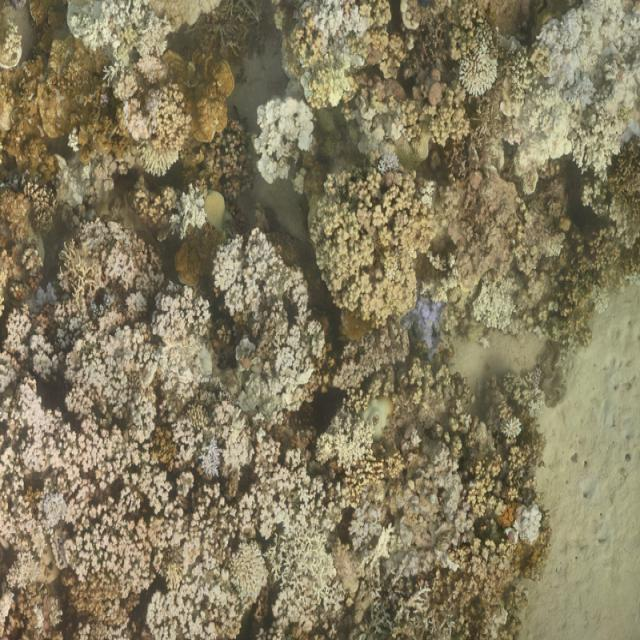Bleached Coral: (6, 312, 182, 589), (267, 532, 347, 620), (65, 1, 169, 66), (511, 62, 570, 172), (252, 100, 322, 182), (212, 244, 296, 311), (114, 80, 176, 143), (570, 106, 617, 174), (310, 0, 365, 55), (222, 538, 269, 602), (407, 286, 444, 361), (540, 10, 590, 56), (456, 48, 498, 98), (168, 192, 208, 242), (138, 144, 186, 178), (509, 508, 548, 548), (195, 440, 228, 483), (368, 150, 408, 180)
